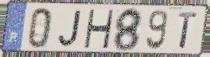0: (27, 7, 53, 50)
8: (113, 7, 144, 53)
9: (146, 9, 170, 51)
H: (82, 8, 115, 50)
J: (58, 9, 83, 48)
T: (177, 11, 198, 50)
